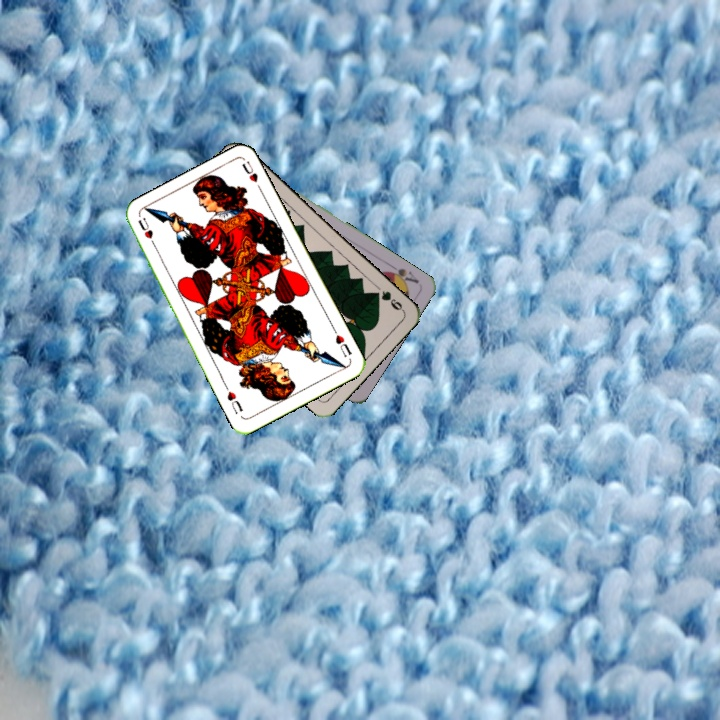G9: (369, 286, 406, 314)
HU: (134, 213, 159, 251), (329, 324, 354, 360)
SA: (382, 260, 421, 289)
